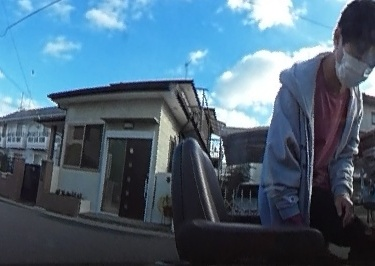person: (261, 0, 375, 242)
